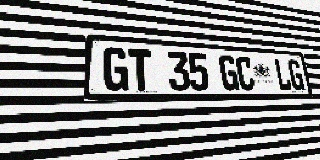3: (167, 51, 190, 91)
5: (188, 53, 210, 91)
C: (235, 56, 255, 91)
G: (103, 47, 128, 91), (218, 55, 239, 91), (287, 59, 305, 90)
L: (273, 58, 292, 90)
T: (128, 48, 153, 91)
